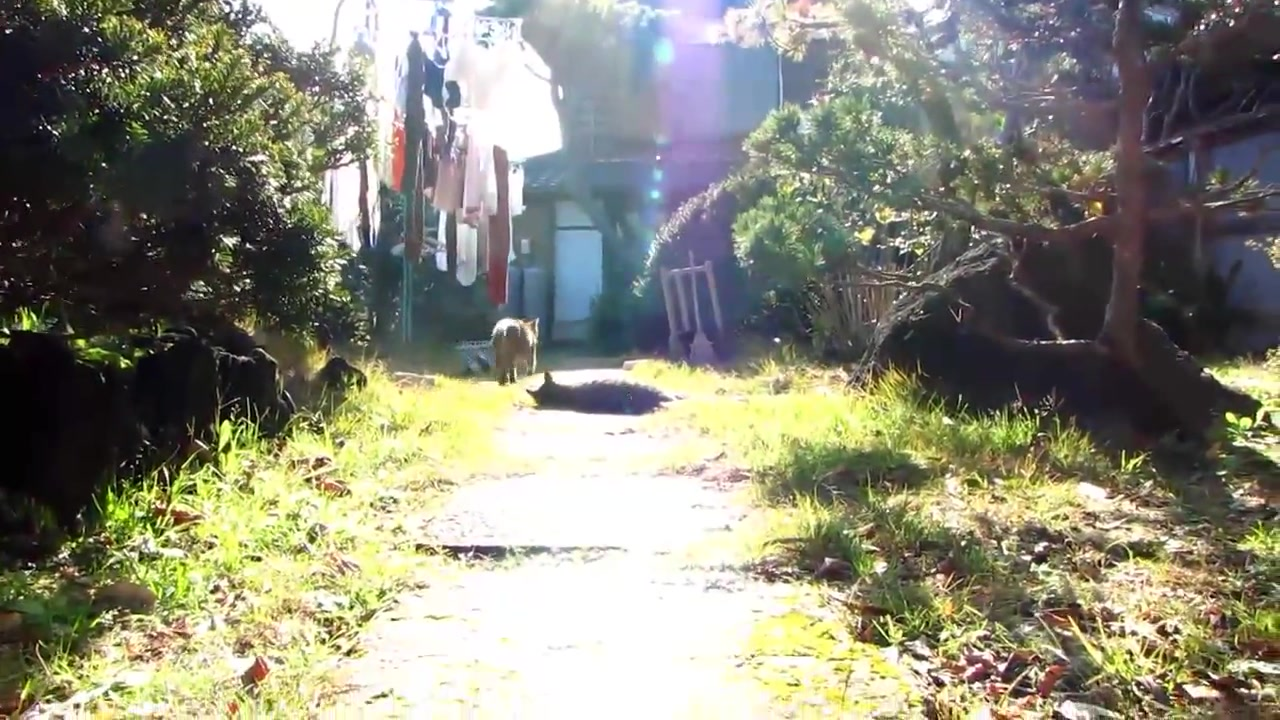cat: (524, 374, 679, 416), (493, 315, 541, 387)
